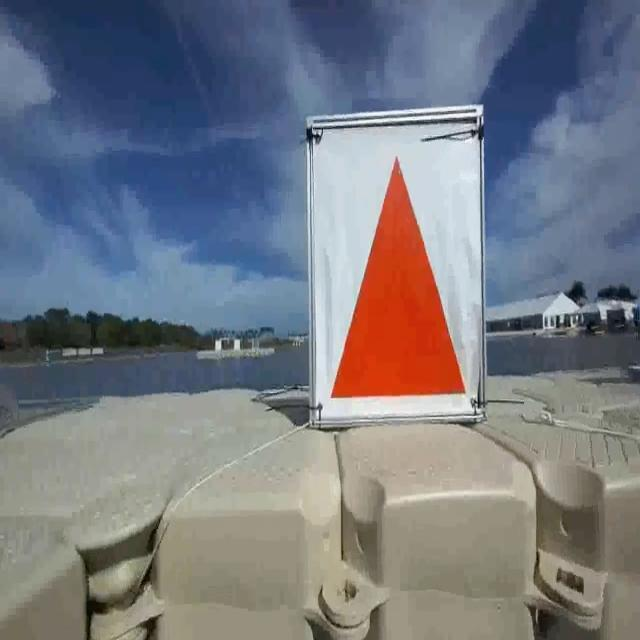red-dot: (314, 120, 485, 412)
